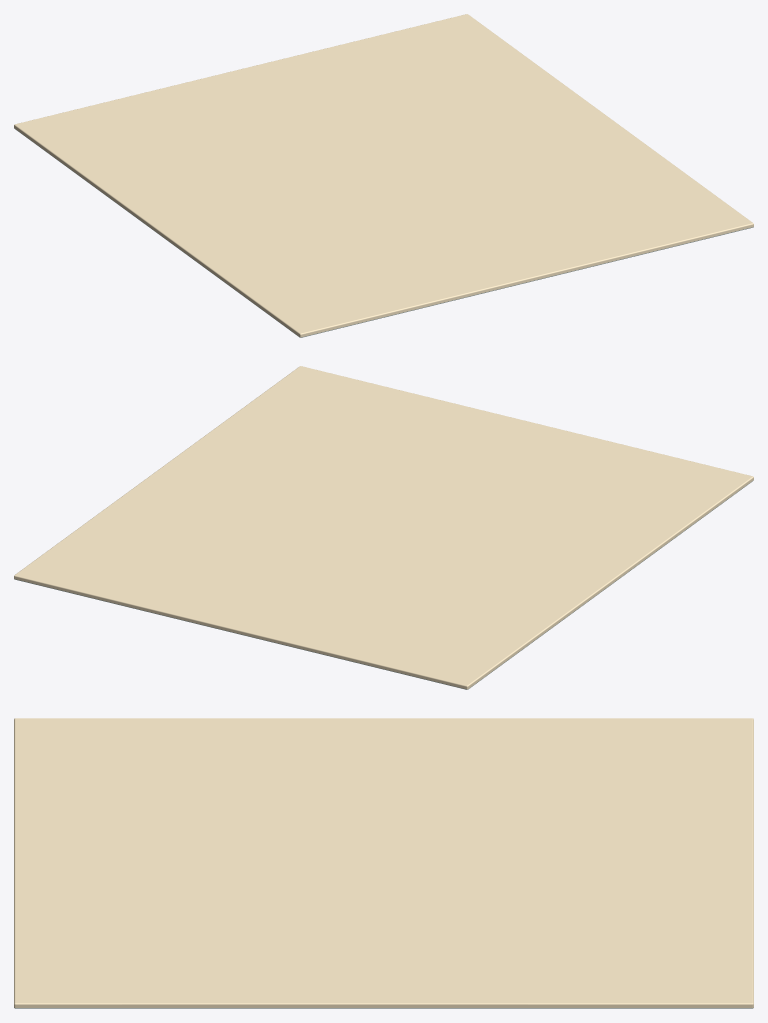
File: fridge-tray-light.glb
3 renders of one model, top to bottom at view 1: azimuth 30°, elevation 25°; view 2: azimuth 150°, elevation 25°; view 3: azimuth 270°, elevation 25°, orthographic. The views are drawn at different scales.
Visible parts, largest first — view 1: ivory, steel; view 2: ivory, steel; view 3: ivory, steel.
Part boxes in pixels (bbox=[...]): ivory: bbox=[14, 14, 753, 337]; steel: bbox=[14, 128, 753, 337]; ivory: bbox=[14, 366, 753, 689]; steel: bbox=[14, 480, 753, 689]; ivory: bbox=[14, 718, 753, 1007]; steel: bbox=[14, 1007, 753, 1008].
Bounding box in the file's own units: 32 × 0.3 × 35.
